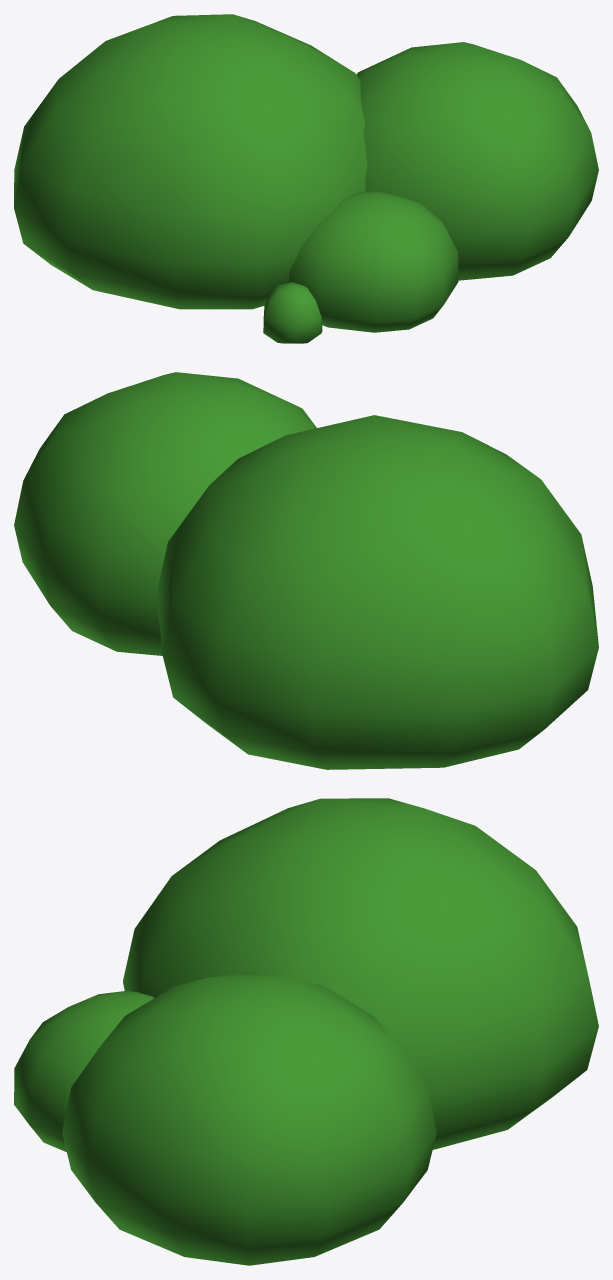
Rendered from bush2.glb.
3 views of the same model, one above another, from view 1: azimuth 30°, elevation 25°; view 2: azimuth 150°, elevation 25°; view 3: azimuth 270°, elevation 25° (orthographic). The views are drawn at different scales.
Visible parts, largest first — view 1: Bush_1_F_Color1; view 2: Bush_1_F_Color1; view 3: Bush_1_F_Color1.
Part boxes in pixels (x1,y1,x2,y2): Bush_1_F_Color1: [14, 14, 598, 343]; Bush_1_F_Color1: [14, 372, 598, 769]; Bush_1_F_Color1: [14, 798, 598, 1265].
Size of the model in its own units: 2.28 by 0.9937 by 1.88.
